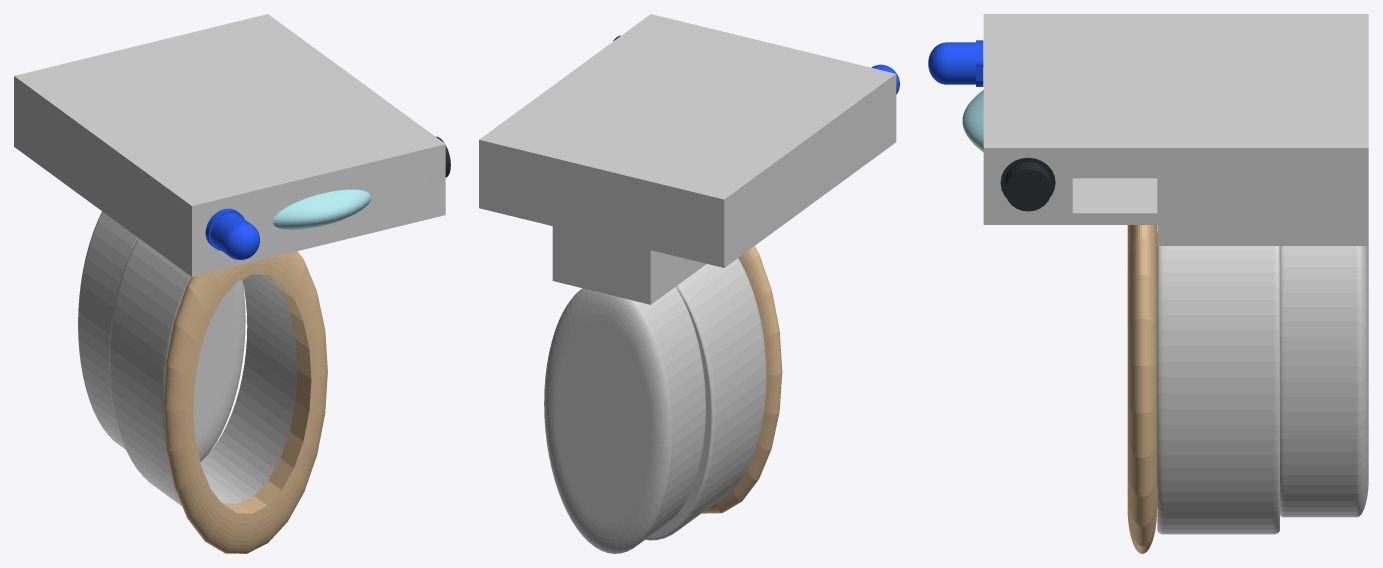
The model's file is tinker.obj.
3 renders of one model, left to right at view 1: azimuth 30°, elevation 25°; view 2: azimuth 150°, elevation 25°; view 3: azimuth 270°, elevation 25°, orthographic. The views are drawn at different scales.
Visible parts, largest first — view 1: group_0_16448250, group_0_14860437, group_0_11593967, group_0_2448639; view 2: group_0_16448250, group_0_14860437; view 3: group_0_16448250, group_0_14860437, group_0_2829873, group_0_2448639, group_0_11593967.
Boxes of the visible parts, x1=… form: group_0_16448250: x1=14, y1=14, x2=445, y2=506; group_0_14860437: x1=163, y1=251, x2=327, y2=553; group_0_11593967: x1=273, y1=189, x2=371, y2=229; group_0_2448639: x1=205, y1=208, x2=259, y2=259; group_0_16448250: x1=479, y1=14, x2=896, y2=553; group_0_14860437: x1=701, y1=246, x2=782, y2=513; group_0_16448250: x1=983, y1=14, x2=1368, y2=534; group_0_14860437: x1=1127, y1=225, x2=1157, y2=553; group_0_2829873: x1=1000, y1=157, x2=1055, y2=211; group_0_2448639: x1=928, y1=40, x2=983, y2=86; group_0_11593967: x1=962, y1=90, x2=983, y2=152.
Size of the model in its own units: 79.44 by 122 by 104.
